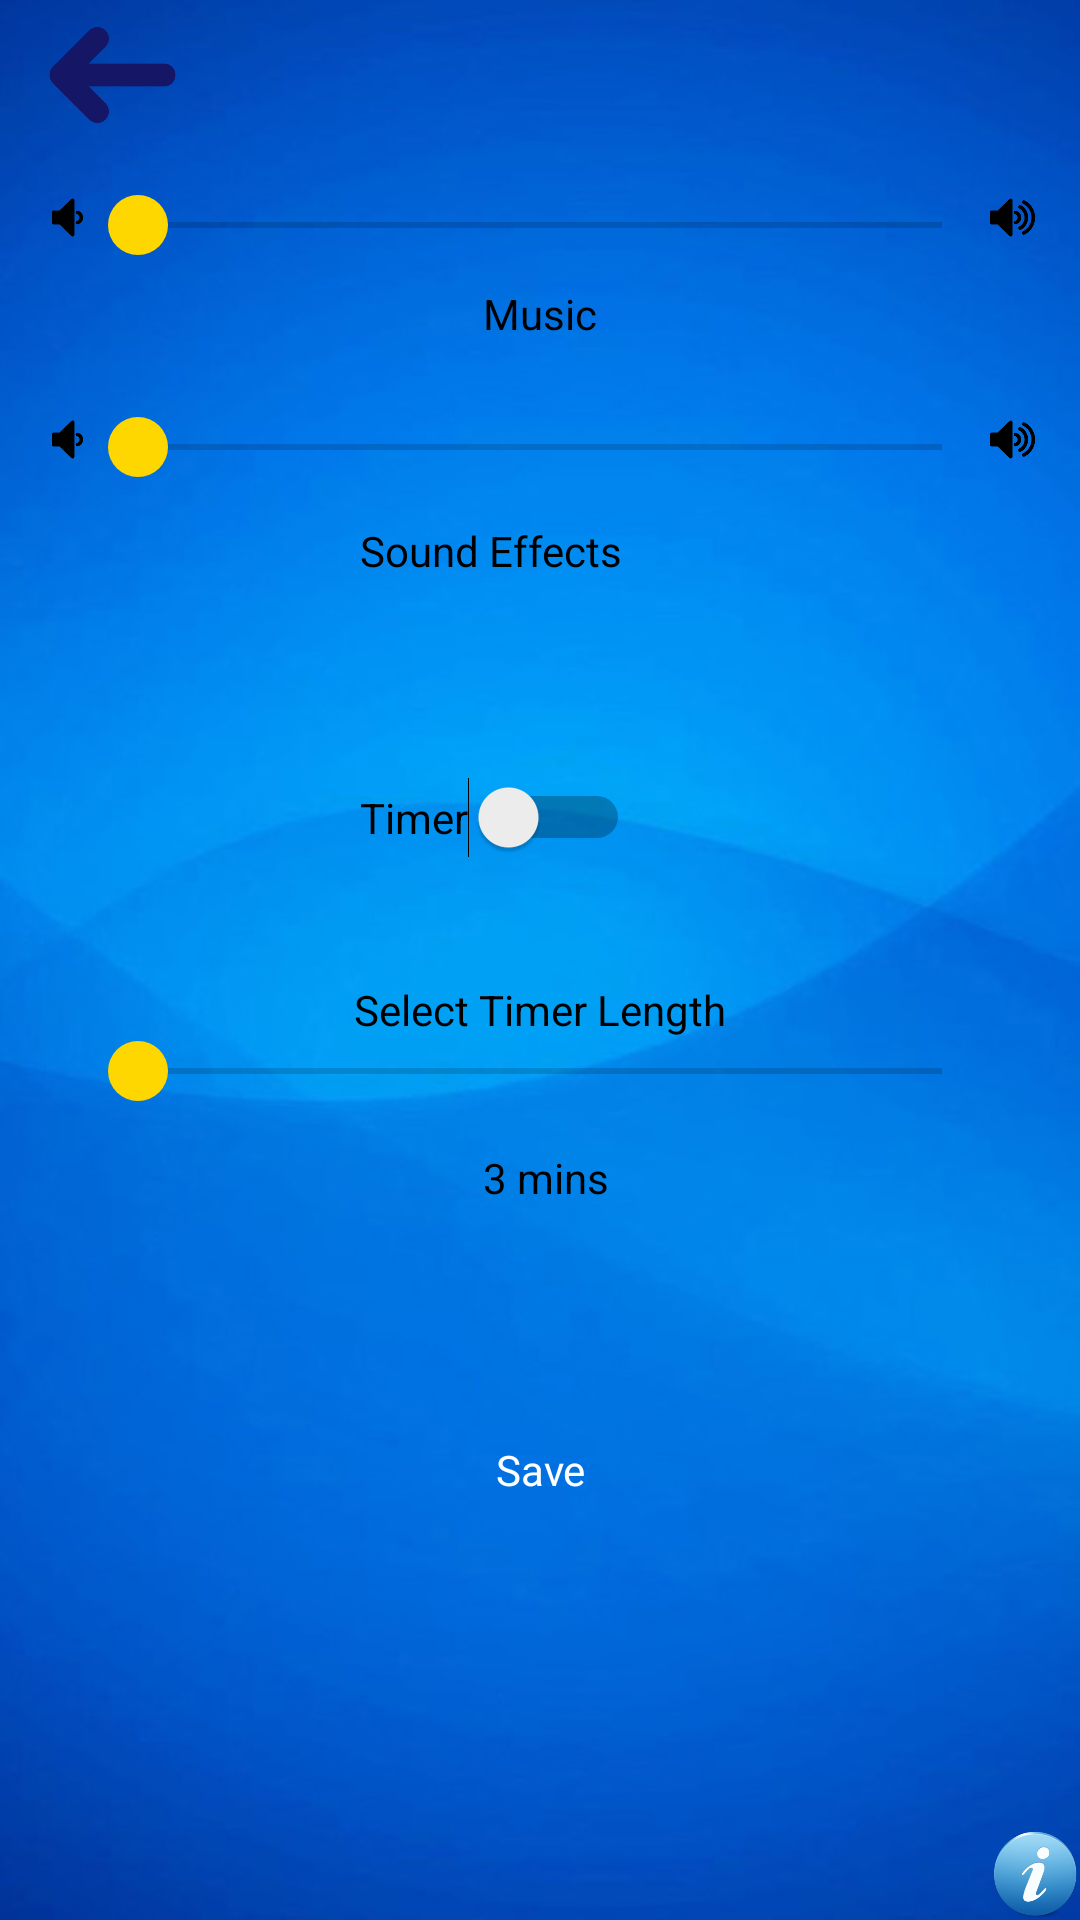

Icon bounding boxes for this 1080x1920 phone screenshot, format (x1, y1, x2, y2):
backbut: (0, 0, 176, 123)
info: (994, 1832, 1076, 1917)
volhigh: (990, 198, 1035, 237), (990, 420, 1035, 459)
vollow: (52, 198, 83, 237), (52, 420, 83, 459)
